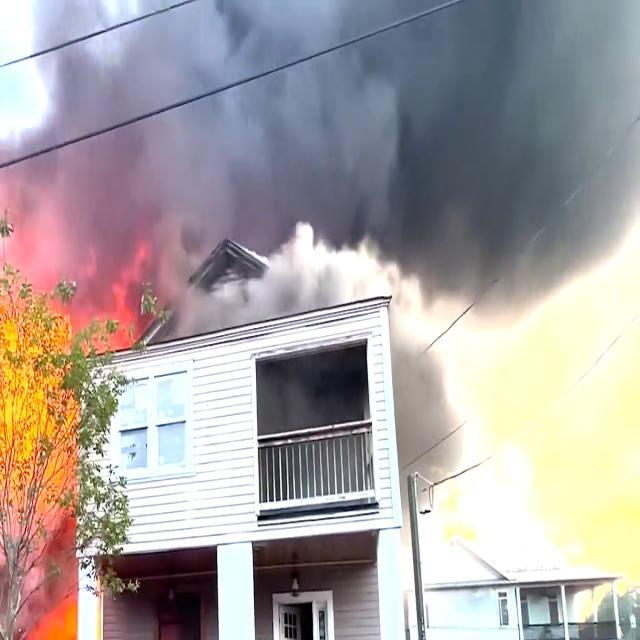Fire: (0, 298, 72, 640)
Smoke: (1, 0, 640, 265), (412, 308, 446, 520)
